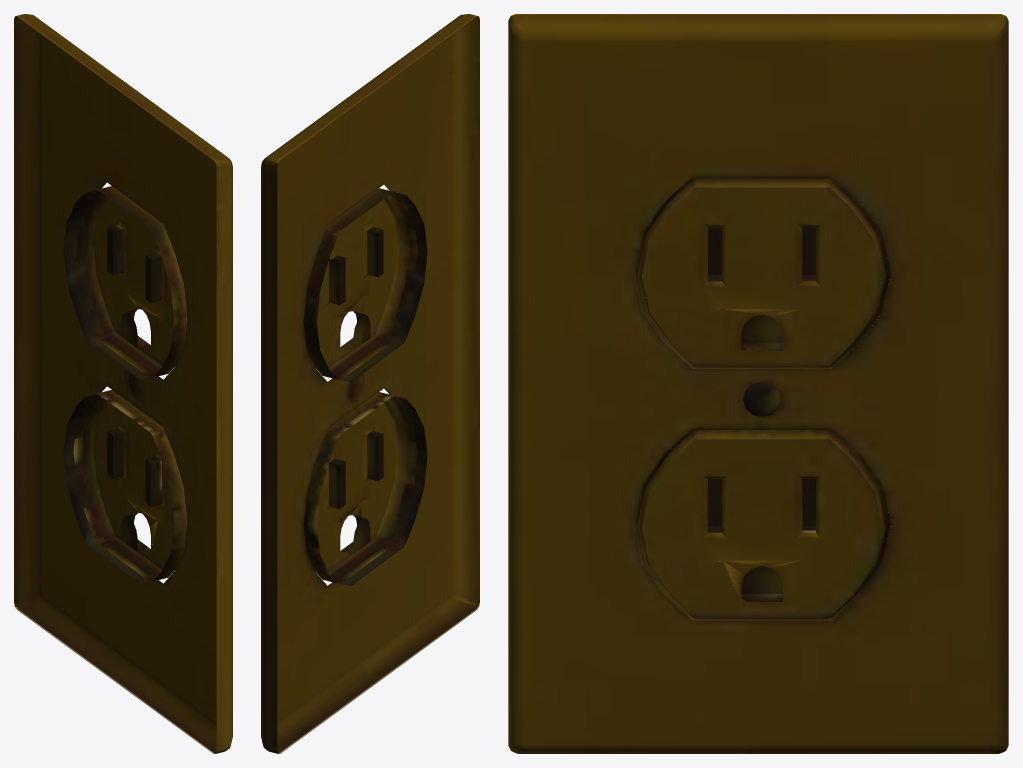
File: socket.glb
The picture shows the model from 3 angles, left to right: view 1: azimuth 30°, elevation 25°; view 2: azimuth 150°, elevation 25°; view 3: azimuth 270°, elevation 25°; orthographic projection. The views are drawn at different scales.
Parts seen in each view (by area): view 1: Object_10.027, Object_10.031, Object_10.033, Object_10.037, Object_10.035, Object_10.028, Object_10.034, Object_10.029, Object_10.038, Object_10.032, Object_10.036, Object_10.131 (+3 smaller); view 2: Object_10.027, Object_10.031, Object_10.033, Object_10.035, Object_10.037, Object_10.034, Object_10.028, Object_10.029, Object_10.038, Object_10.032, Object_10.036, Object_10.112 (+3 smaller); view 3: Object_10.027, Object_10.031, Object_10.033, Object_10.032, Object_10.034, Object_10.028, Object_10.029, Object_10.037, Object_10.035, Object_10.036, Object_10.038, Object_10.030.
Part boxes in pixels (x1,y1,x2,y2): Object_10.027: (14,14,232,753); Object_10.031: (93,197,173,365); Object_10.033: (93,400,173,547); Object_10.037: (73,394,161,581); Object_10.035: (98,229,187,377); Object_10.028: (63,190,152,379); Object_10.034: (73,186,165,333); Object_10.029: (63,394,152,583); Object_10.038: (152,432,187,581); Object_10.032: (93,448,171,569); Object_10.036: (96,390,165,435); Object_10.131: (113,432,123,478); Object_10.027: (261,14,479,753); Object_10.031: (317,199,397,367); Object_10.033: (317,403,397,531); Object_10.035: (329,192,417,379); Object_10.037: (303,434,392,583); Object_10.034: (303,188,395,379); Object_10.028: (338,192,427,381); Object_10.029: (338,396,427,585); Object_10.038: (376,396,417,540); Object_10.032: (317,499,384,571); Object_10.036: (326,392,394,437); Object_10.112: (367,231,378,277); Object_10.027: (508,14,1008,753); Object_10.031: (642,187,882,365); Object_10.033: (642,439,882,601); Object_10.032: (672,529,881,617); Object_10.034: (691,178,886,365); Object_10.028: (633,176,890,368); Object_10.029: (633,428,890,620); Object_10.037: (693,432,886,619); Object_10.035: (637,181,831,367); Object_10.036: (691,430,832,439); Object_10.038: (637,432,693,617); Object_10.030: (743,382,780,416).
Size of the model in its own units: 0.00624 by 0.1242 by 0.0768.
1 material, 1 textured.
